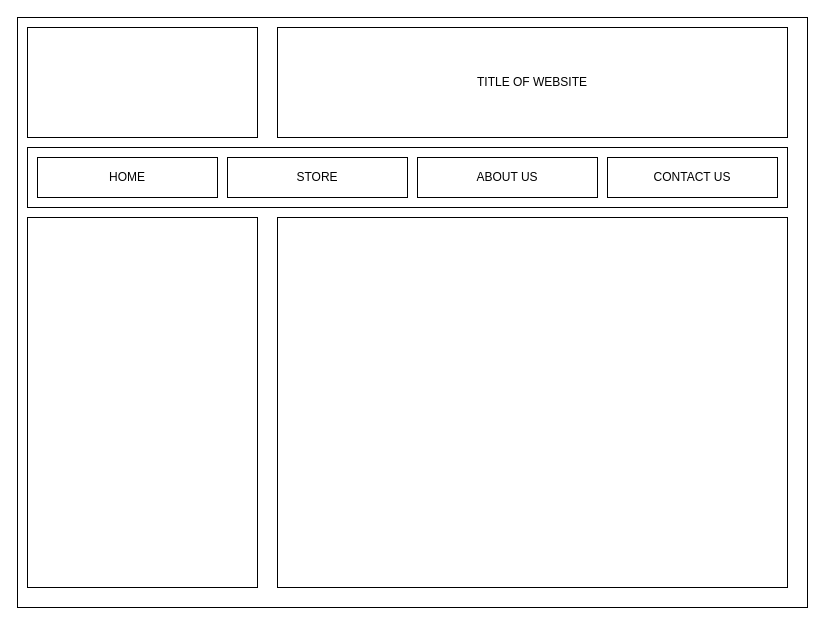
The diagram is 825 pixels wide and 625 high, and some of its shapes have lost their labels. Each missing label, with the centre of its shape:
ABOUT OUR SHOP ("Who are we?"): [532,402]
LOGO: [142,82]
OUR SOCIAL MEDIA: [142,402]
